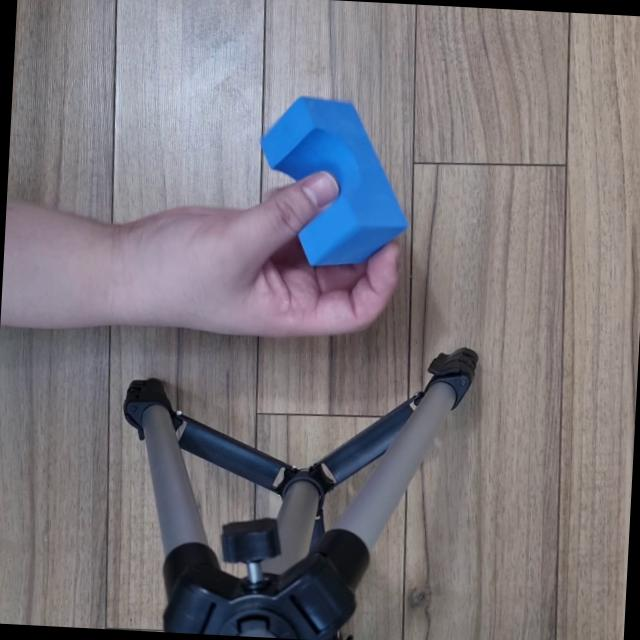block: (268, 90, 414, 270)
hand: (130, 186, 418, 368)
